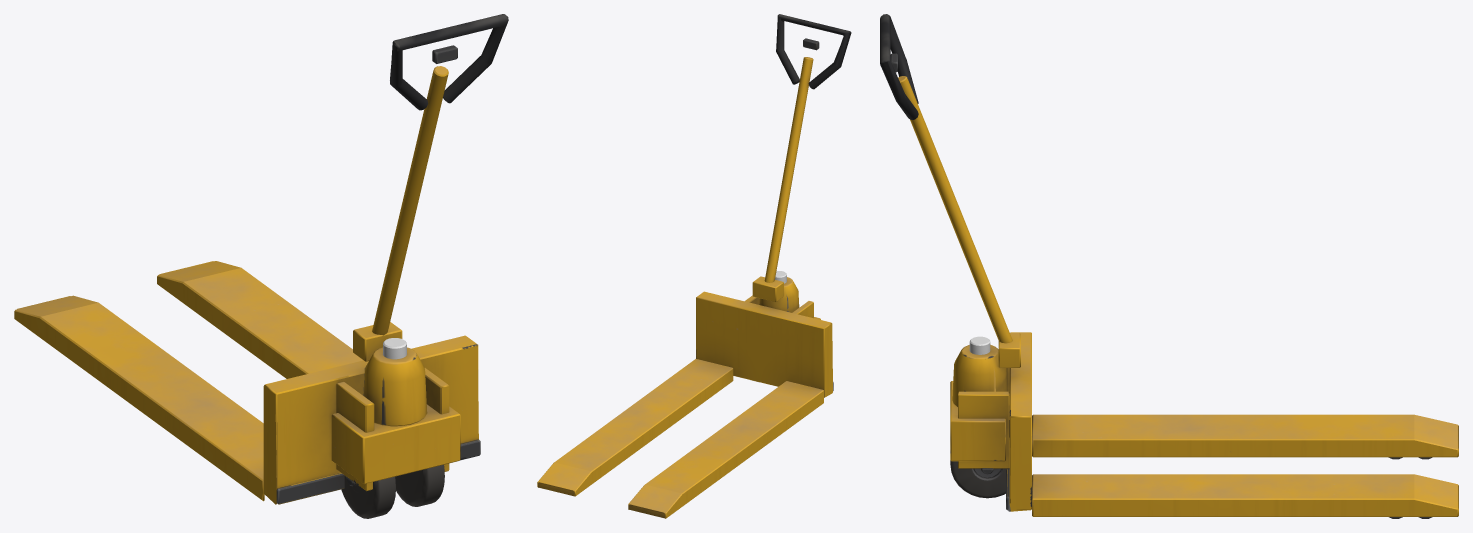
File: PalletTruck.fbx
3 renders of one model, left to right at view 1: azimuth 30°, elevation 25°; view 2: azimuth 150°, elevation 25°; view 3: azimuth 270°, elevation 25°, orthographic. The views are drawn at different scales.
Visible parts, largest first — view 1: Lift_LOD0, Body_LOD0, Handle_LOD0, Wheel_R_LOD0, Wheel_L_LOD0; view 2: Lift_LOD0, Handle_LOD0, Body_LOD0; view 3: Lift_LOD0, Body_LOD0, Handle_LOD0, Wheel_L_LOD0.
Part boxes in pixels (x1,y1,x2,y2): Lift_LOD0: (14, 261, 480, 504); Body_LOD0: (331, 338, 460, 490); Handle_LOD0: (353, 14, 508, 361); Wheel_R_LOD0: (341, 475, 395, 518); Wheel_L_LOD0: (395, 464, 444, 506); Lift_LOD0: (537, 291, 833, 518); Handle_LOD0: (752, 14, 851, 302); Body_LOD0: (745, 271, 820, 319); Lift_LOD0: (1006, 332, 1458, 518); Body_LOD0: (950, 336, 1009, 474); Handle_LOD0: (880, 14, 1020, 367); Wheel_L_LOD0: (950, 460, 1009, 498).
Size of what is drawn, in the model's own units: 0.54 by 1.33 by 1.56.
Materials: 1 (1 with a texture image).
